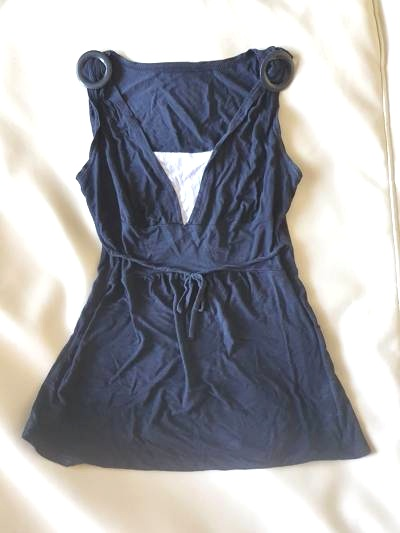Dress: (28, 52, 362, 507)
